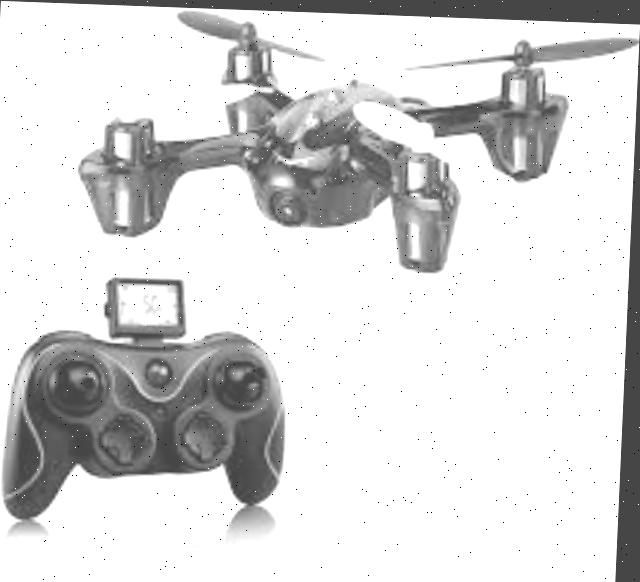drone: (37, 1, 614, 294)
